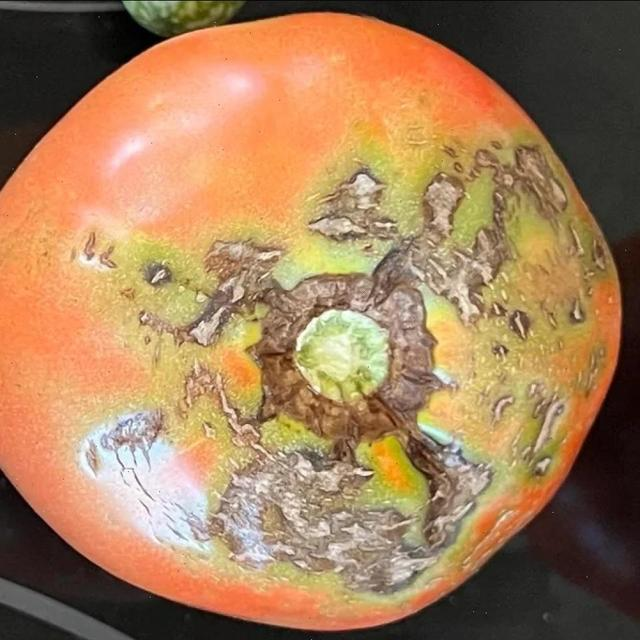Spotted wilt Virus Fruit: (0, 149, 6, 479)
